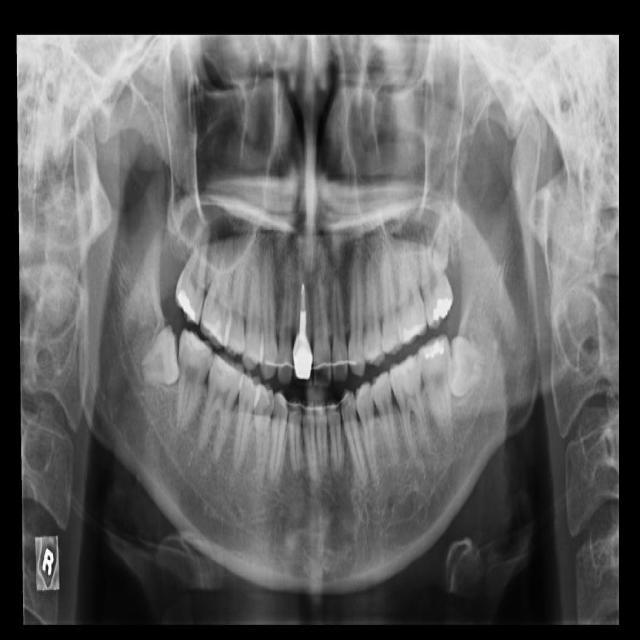52: (161, 269, 216, 328), (185, 297, 242, 352), (405, 329, 461, 383), (420, 273, 457, 331), (396, 294, 429, 346), (293, 335, 313, 387), (178, 356, 185, 384)
73: (295, 269, 315, 338), (586, 576, 602, 588)
BioHorizons Implant: (413, 226, 458, 331)
BioLife Implant: (433, 215, 450, 271)
Biomet 3i Implant: (446, 335, 488, 398)
Blue Sky Bio Implant: (416, 334, 454, 438)
Caries: (171, 215, 216, 327)
Implant: (176, 329, 213, 430)
Keystone Dental Implant: (136, 324, 184, 389)
